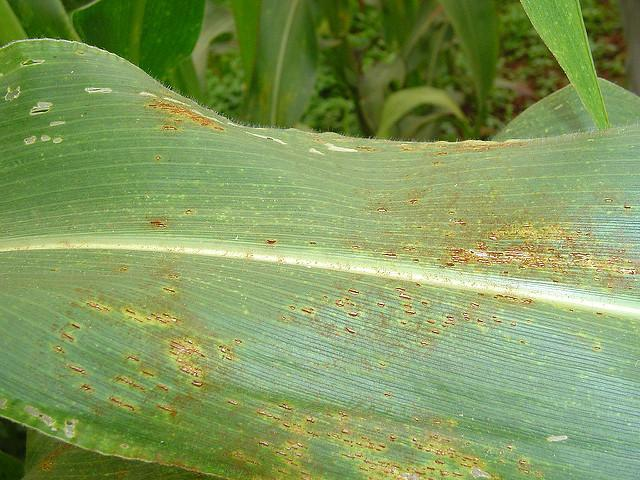Corn_Common_Rust: (0, 390, 527, 480), (349, 179, 640, 277), (276, 278, 560, 349), (35, 314, 245, 390), (139, 191, 328, 252), (57, 252, 202, 315), (347, 130, 544, 166), (139, 73, 226, 139), (246, 114, 344, 163), (561, 305, 609, 354), (25, 96, 56, 124), (542, 430, 583, 449), (20, 132, 64, 148), (71, 85, 117, 99), (1, 81, 26, 101), (147, 149, 174, 167), (23, 52, 52, 68)
